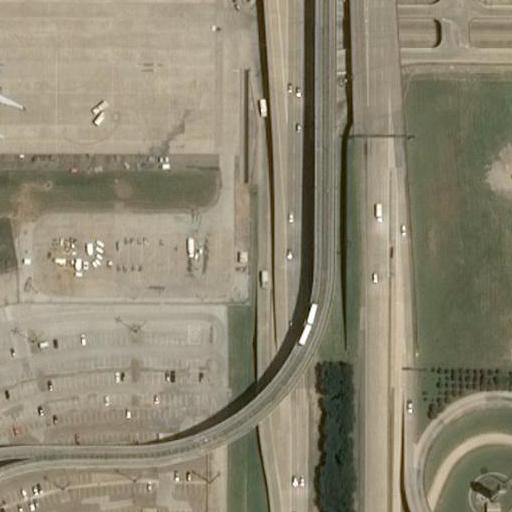Aircraft: (0, 59, 21, 139)
